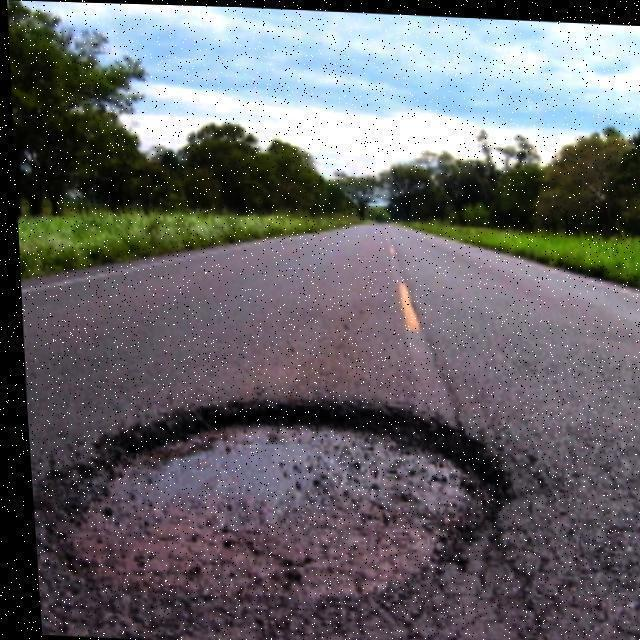Pothole: (28, 3, 640, 176), (74, 425, 475, 640)
